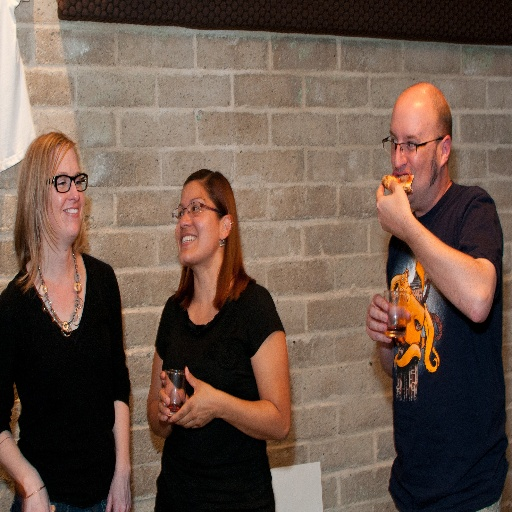hand: (168, 365, 217, 428), (363, 292, 411, 346), (155, 367, 191, 431), (375, 178, 412, 240), (104, 475, 132, 511), (24, 479, 52, 511)
